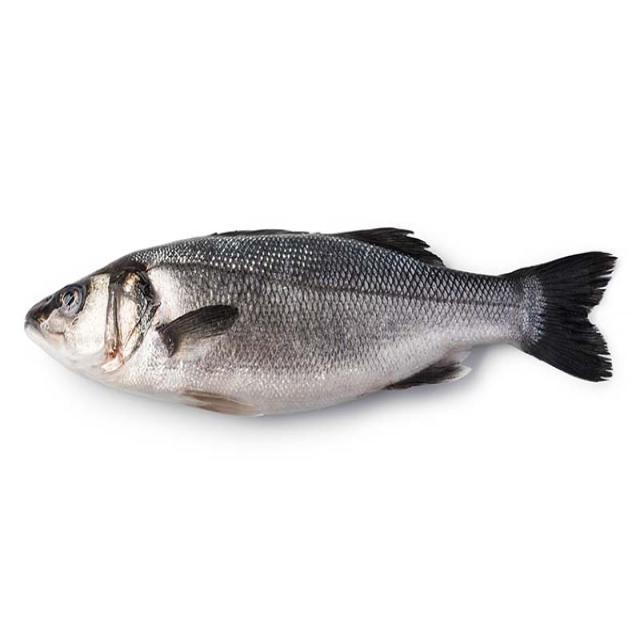Healthy Fish: (9, 223, 634, 425)
